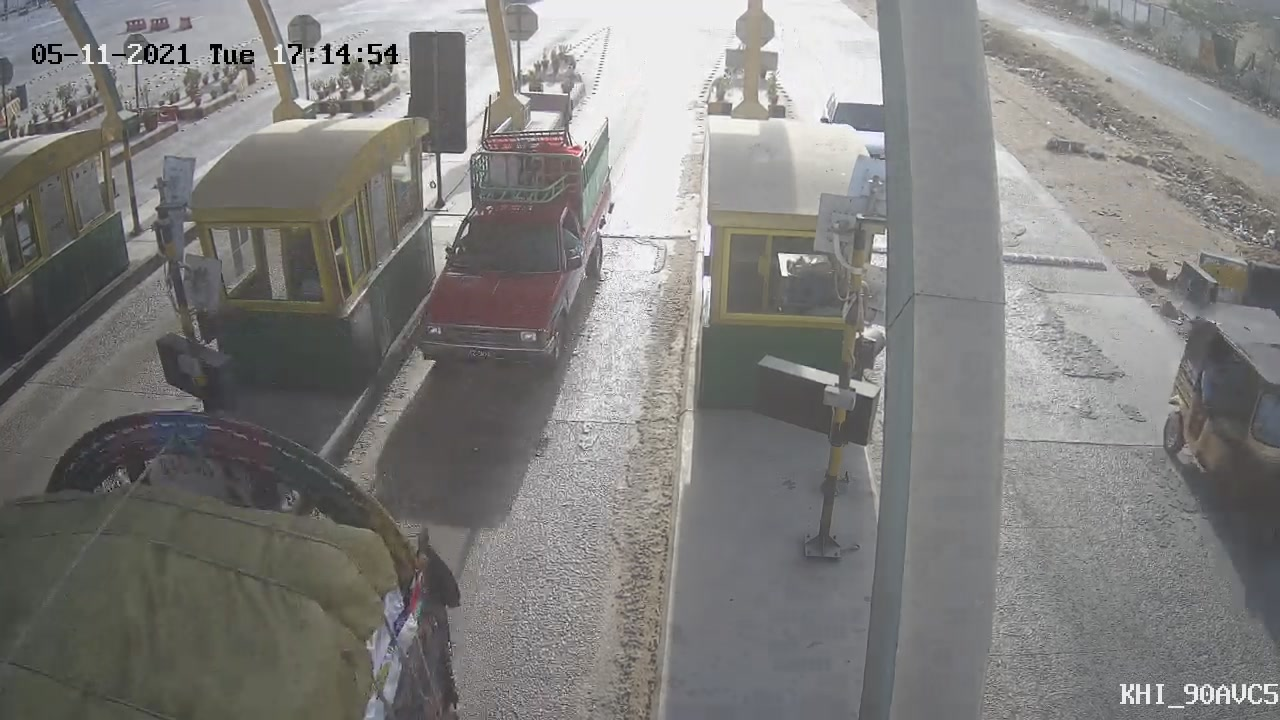F1: (400, 104, 631, 394)
